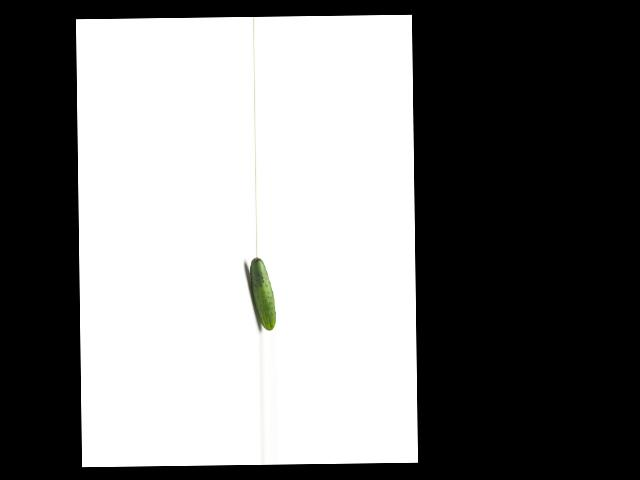cucumber: (249, 256, 276, 330)
